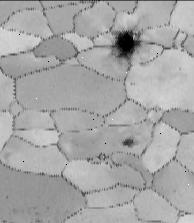good_void: (107, 28, 144, 71), (120, 133, 145, 149), (129, 82, 137, 87)
